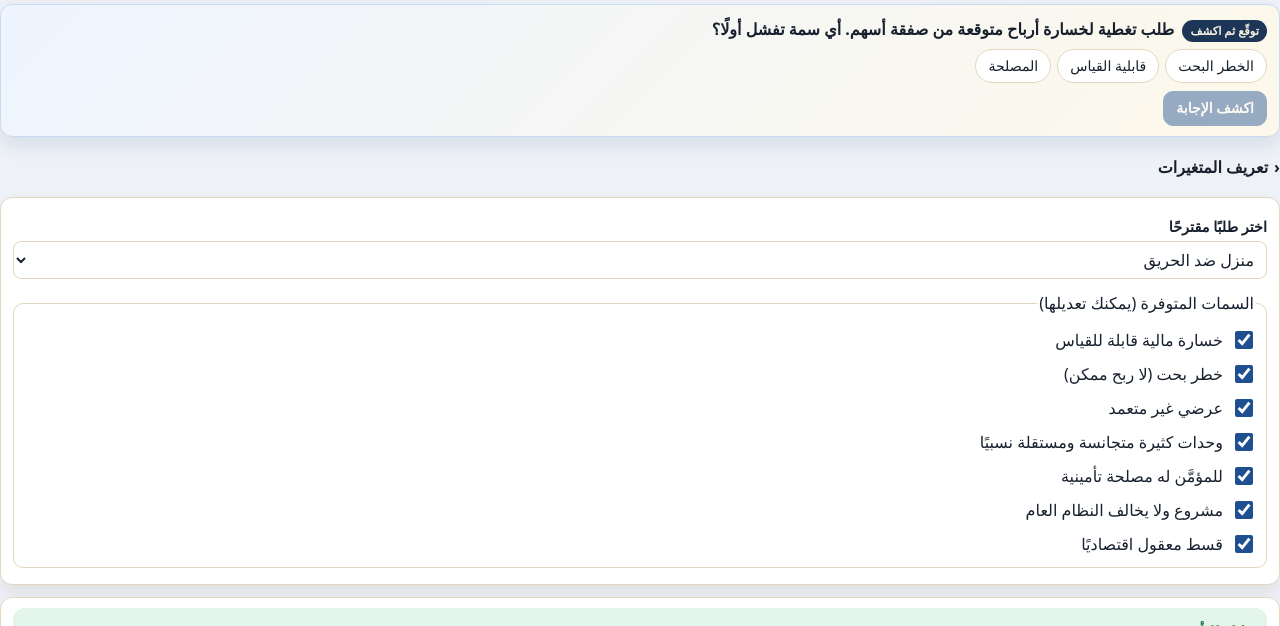
Scenario: every lab resets to its defaults › insurability-check
Click the checkbox labelled "خسارة مالية قابلة للقياس": (1244, 340) [1235,331,1253,349]
(page scrolled)
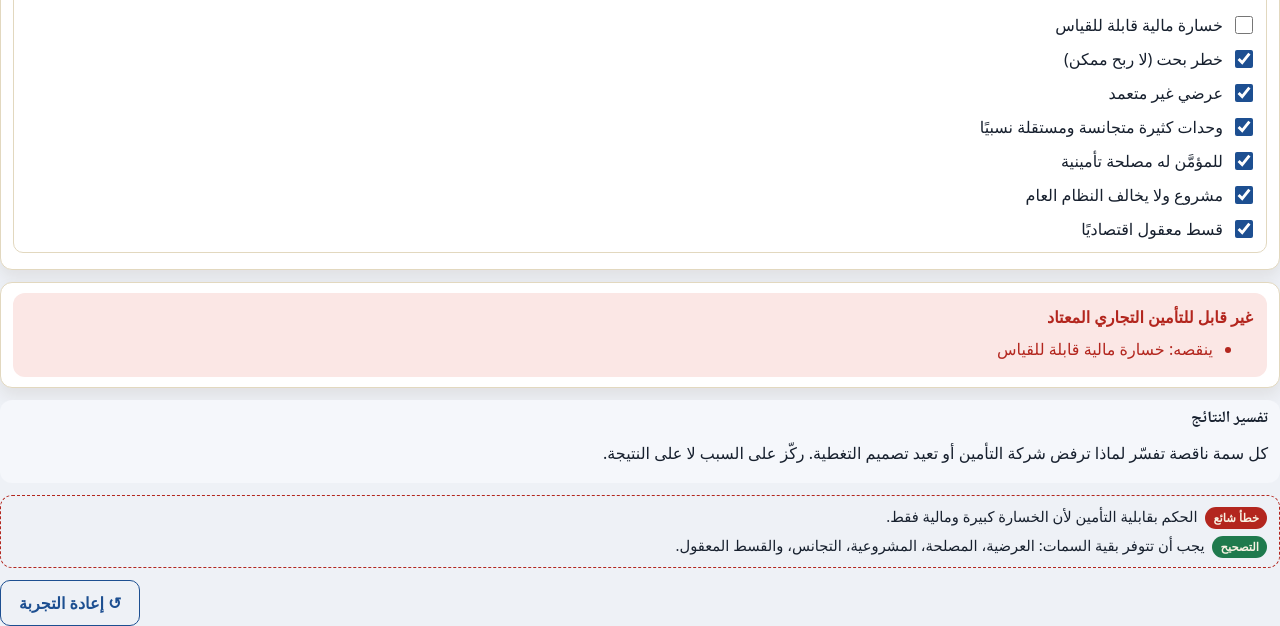
Click the button "↺ إعادة التجربة": (70, 603) [0,580,140,625]
(page scrolled)
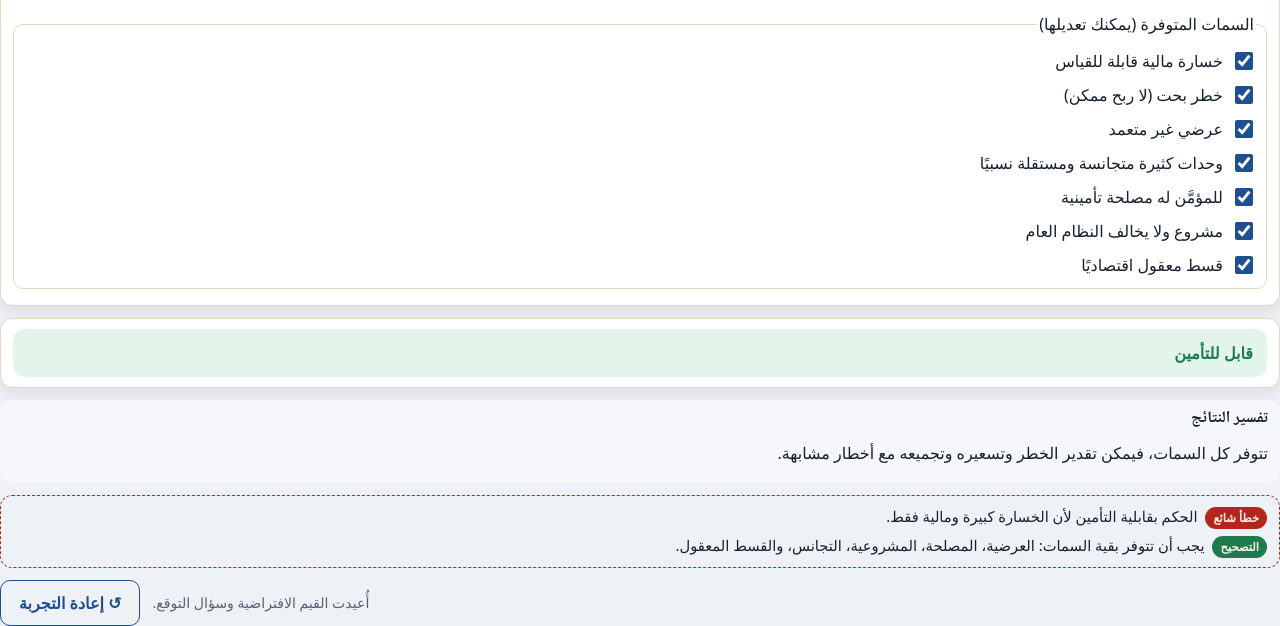
Check: the text "قابل للتأمين" is shown, box [1174,342,1253,364]
